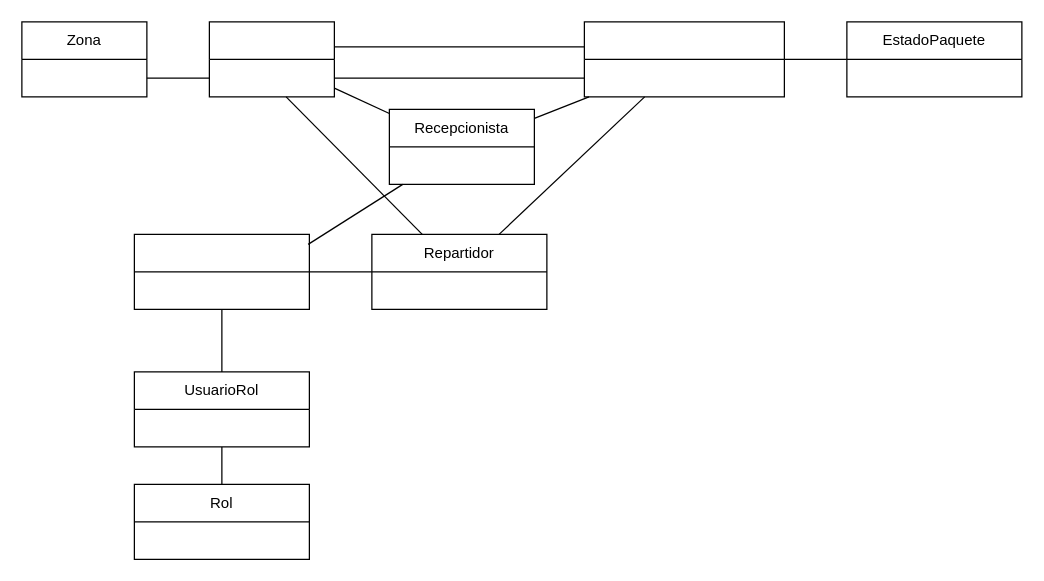
This 1044x581 diagram has some shape labels left out. The centre of each missing label's shape, as x and y in pixels:
"Paquete" goes at point 683,59.
"Sucursal" goes at point 271,59.
"Usuario" goes at point 221,271.
